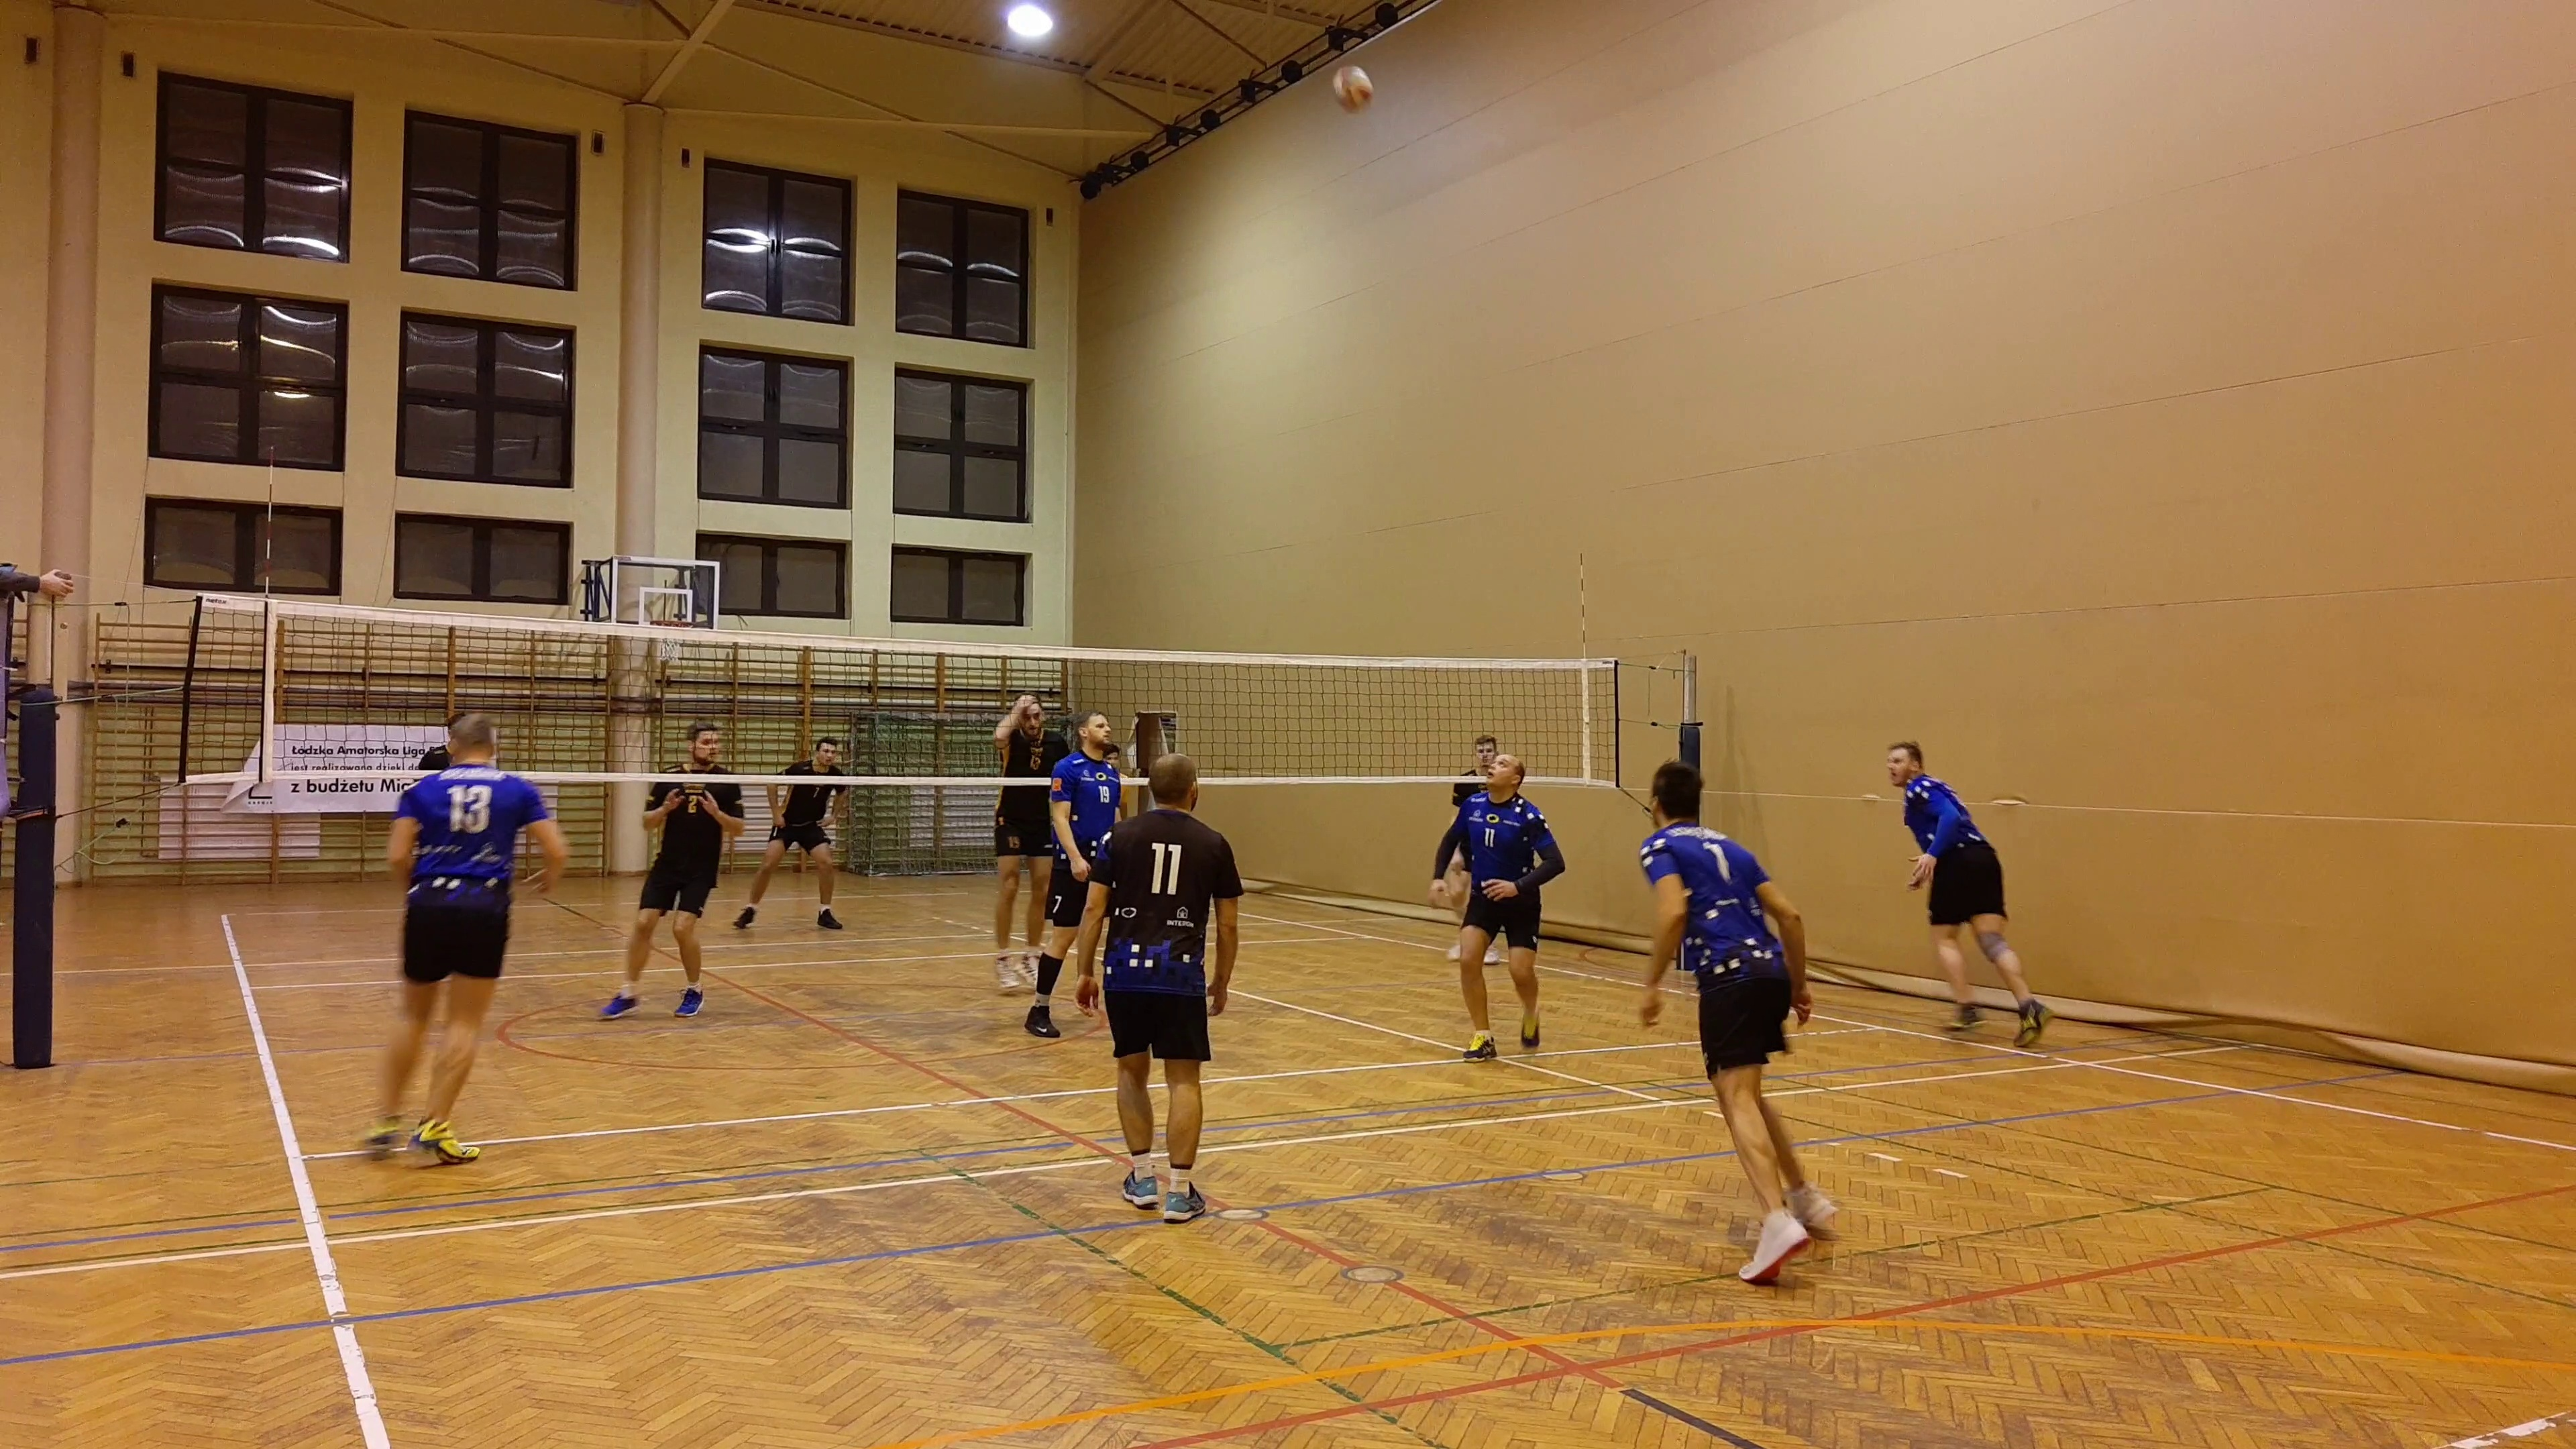ball: (1332, 65, 1375, 113)
